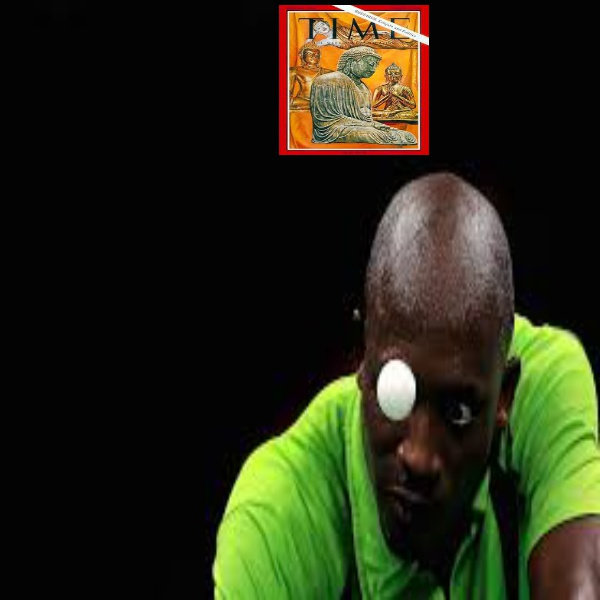time_cover: (278, 1, 436, 150)
